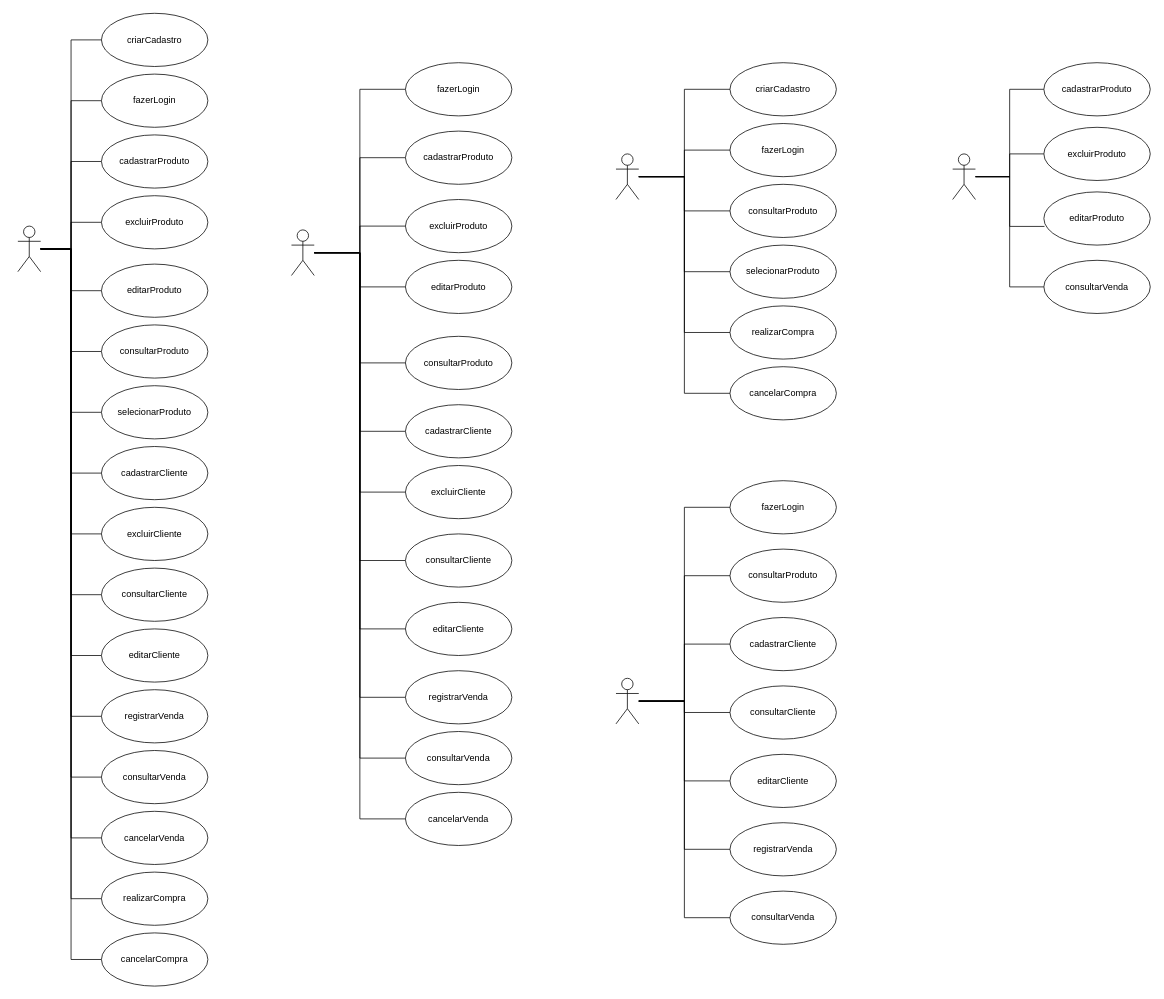
Some shapes in this 1164 by 999 pixel diagram are drawn without their labels. Here are the shapes that lost their labels. From the top down, the box of each, then its label:
(615, 153, 639, 200): Cliente
(952, 153, 975, 200): Funcionário Estoque
(17, 225, 41, 272): Sistema
(291, 229, 314, 276): Gerente
(615, 678, 639, 724): Funcionário
